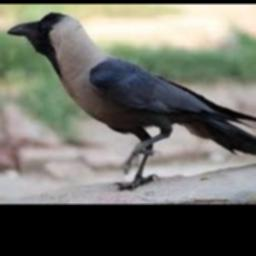Crow: (7, 12, 256, 191)
